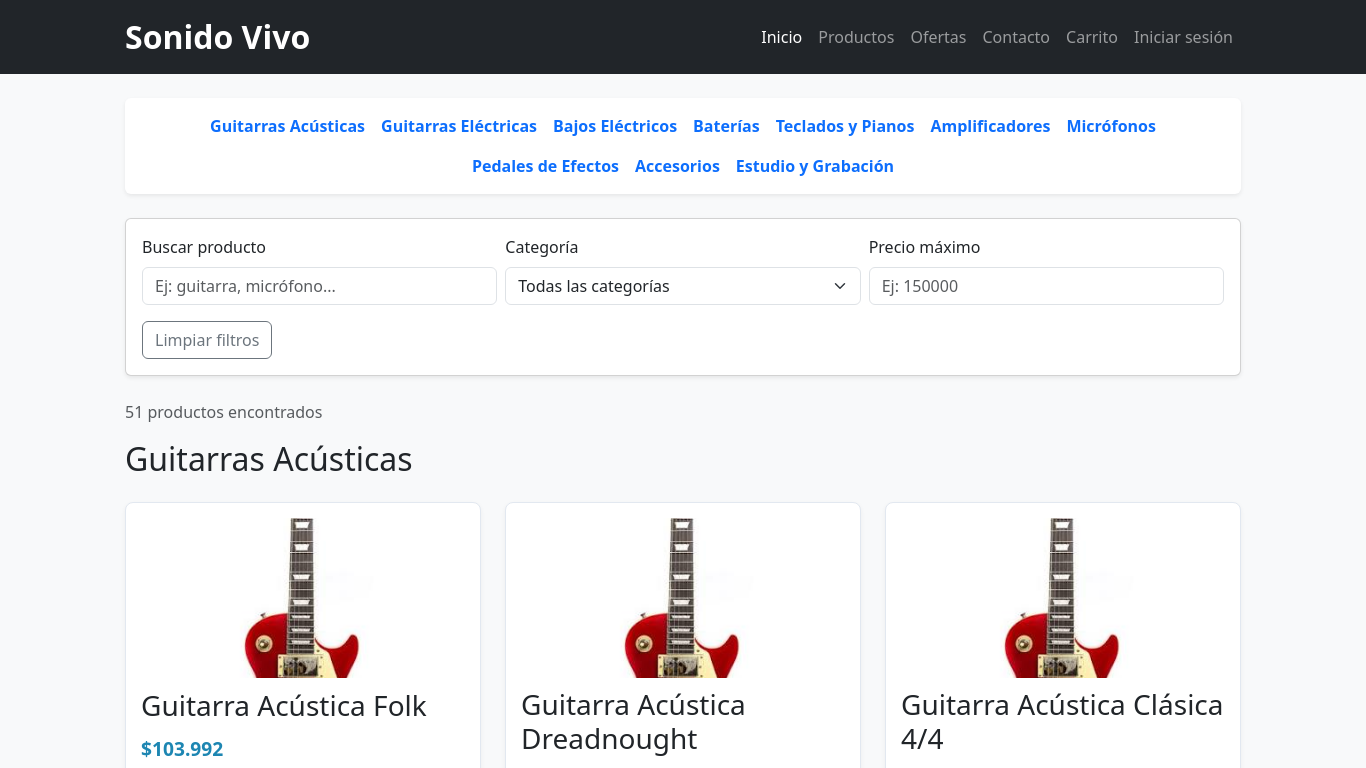
Test: filtros de búsqueda › Limpiar filtros vuelve a mostrar todo el catálogo
Type "zzzz" into the field labelled "Buscar producto". click: x=320, y=286
box: [142,267,497,305]
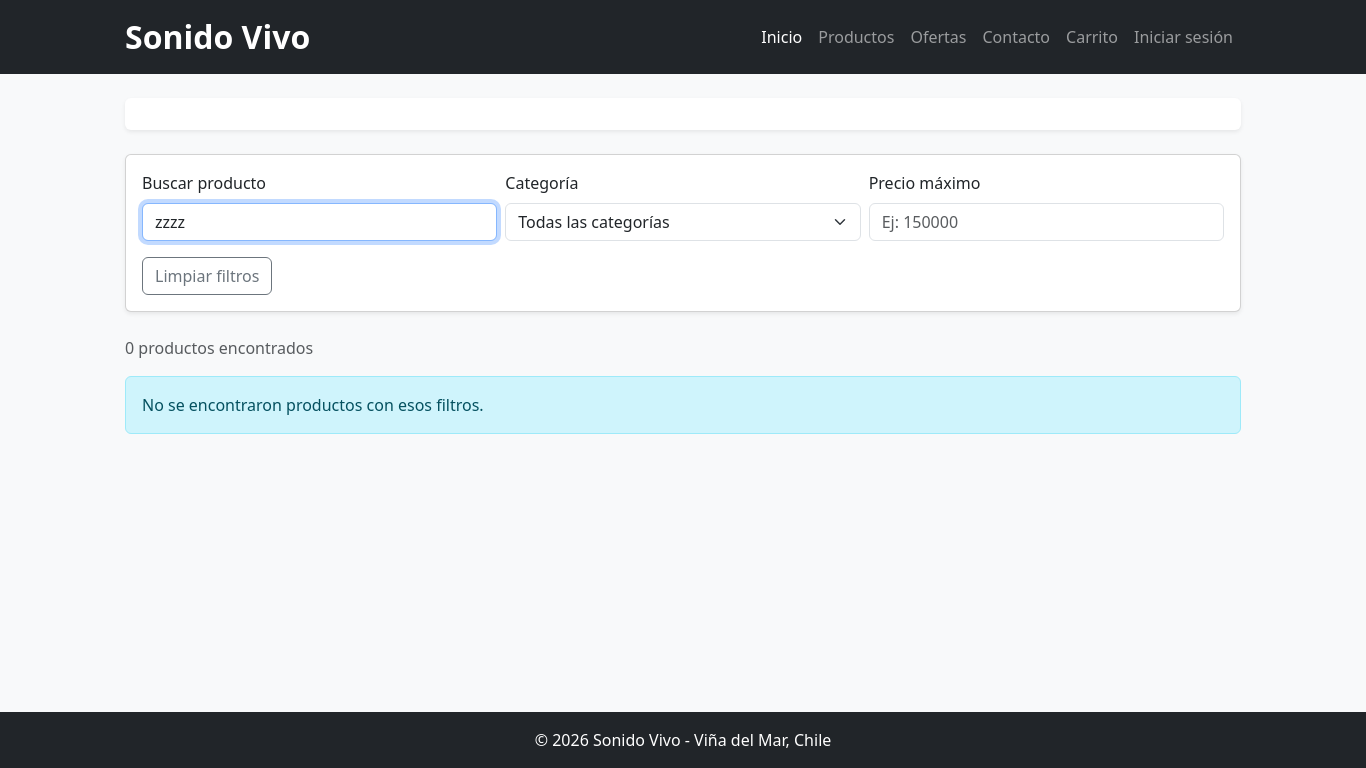
Click the button "Limpiar filtros". click: x=207, y=276
box: [142,257,272,295]
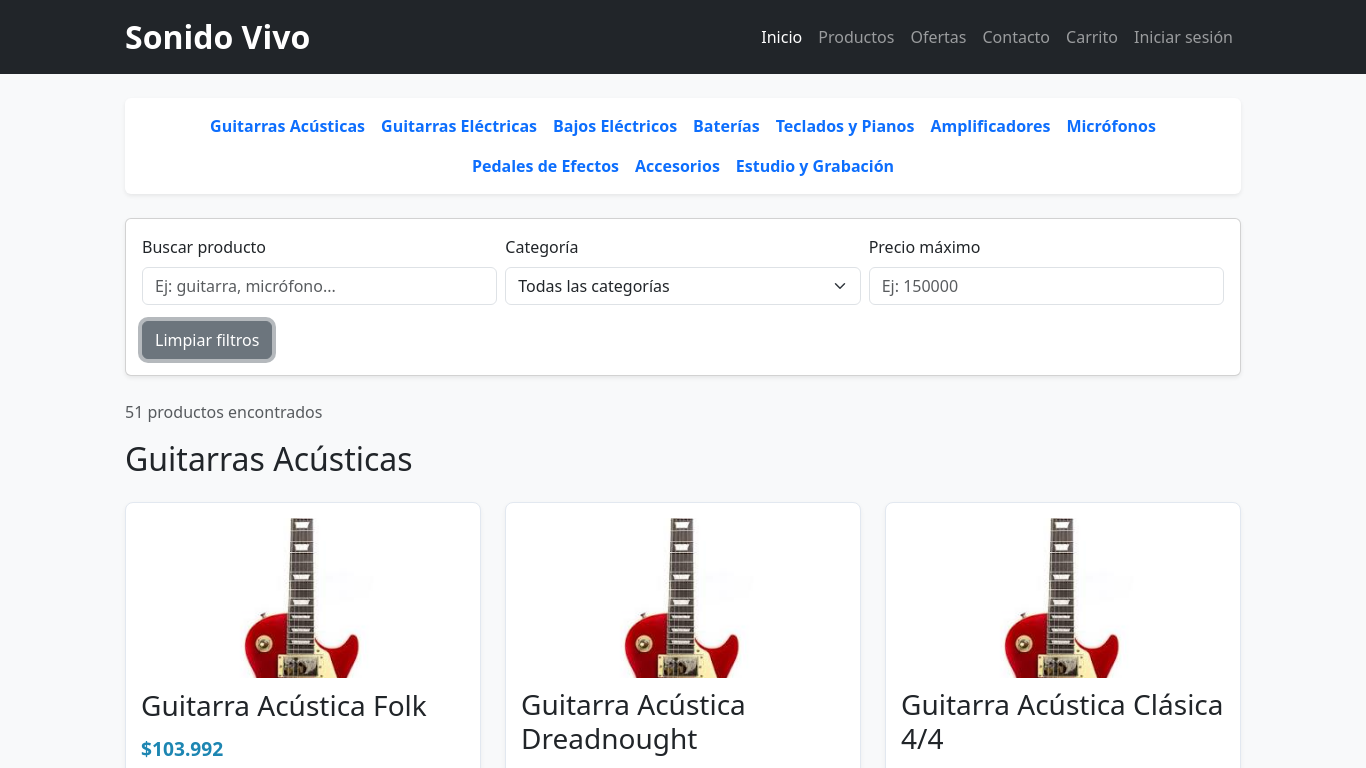
Check: the field labelled "Buscar producto" is empty, box [142,267,497,305]
Check: the heading "Guitarras Acústicas" is shown, box [125,437,413,480]
Check: the text "No se encontraron productos con esos filtros." is gone
